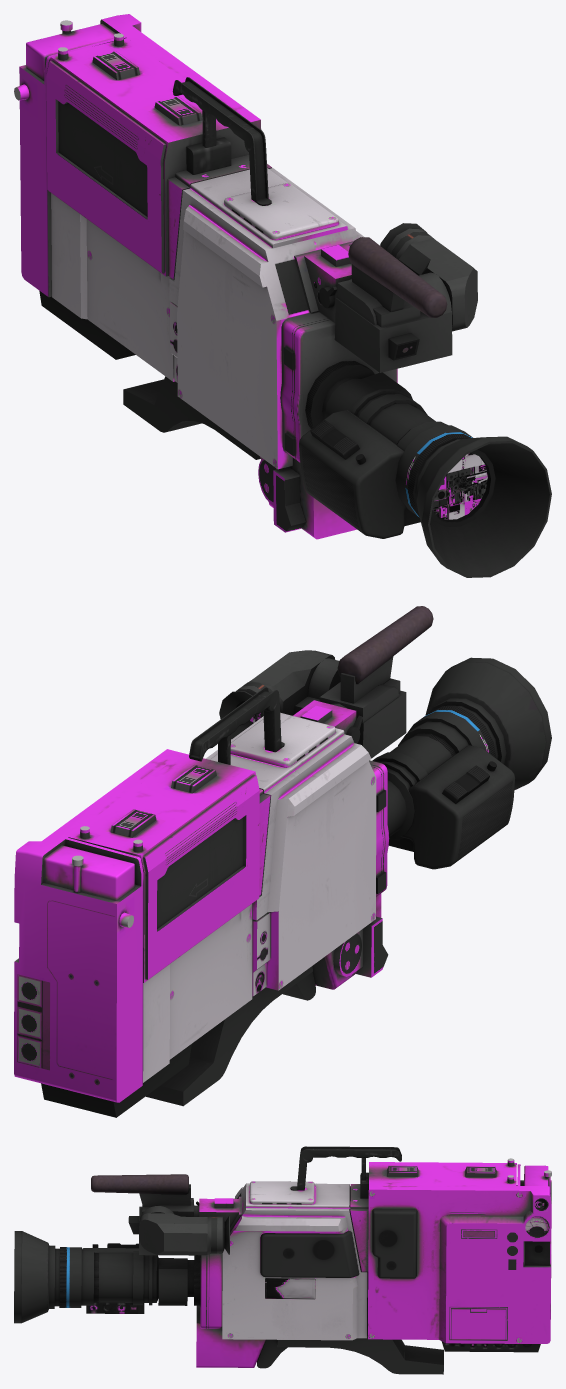
3 views of the same model, one above another, from view 1: azimuth 30°, elevation 25°; view 2: azimuth 150°, elevation 25°; view 3: azimuth 270°, elevation 25° (orthographic). The views are drawn at different scales.
Parts seen in each view (by area): view 1: camera3; view 2: camera3; view 3: camera3.
Boxes of the visible parts, <box> form: camera3: <box>14,14,551,577</box>; camera3: <box>14,606,551,1117</box>; camera3: <box>14,1146,551,1374</box>.
Size of the model in its own units: 0.3325 by 0.5782 by 1.3.
Materials: 2 (2 with a texture image).
